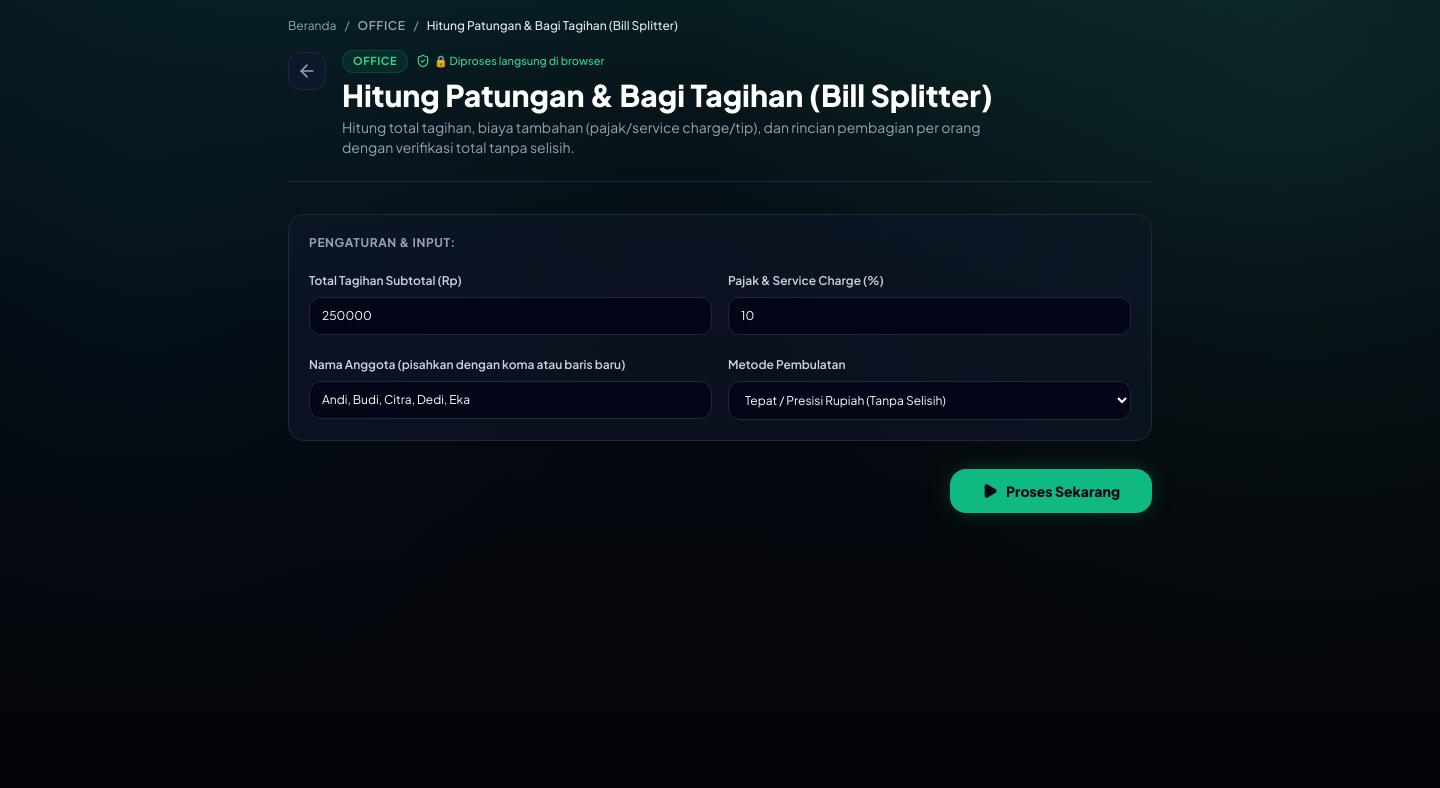
Test: End-to-End UI & Functional User Journeys (Task 6) › 3. Text & Form Tools UI Flow › Expense Splitter: calculates bill distribution from form options
Click the button "Proses Sekarang" at x=1051, y=490, box [950, 468, 1152, 512]
(page scrolled)
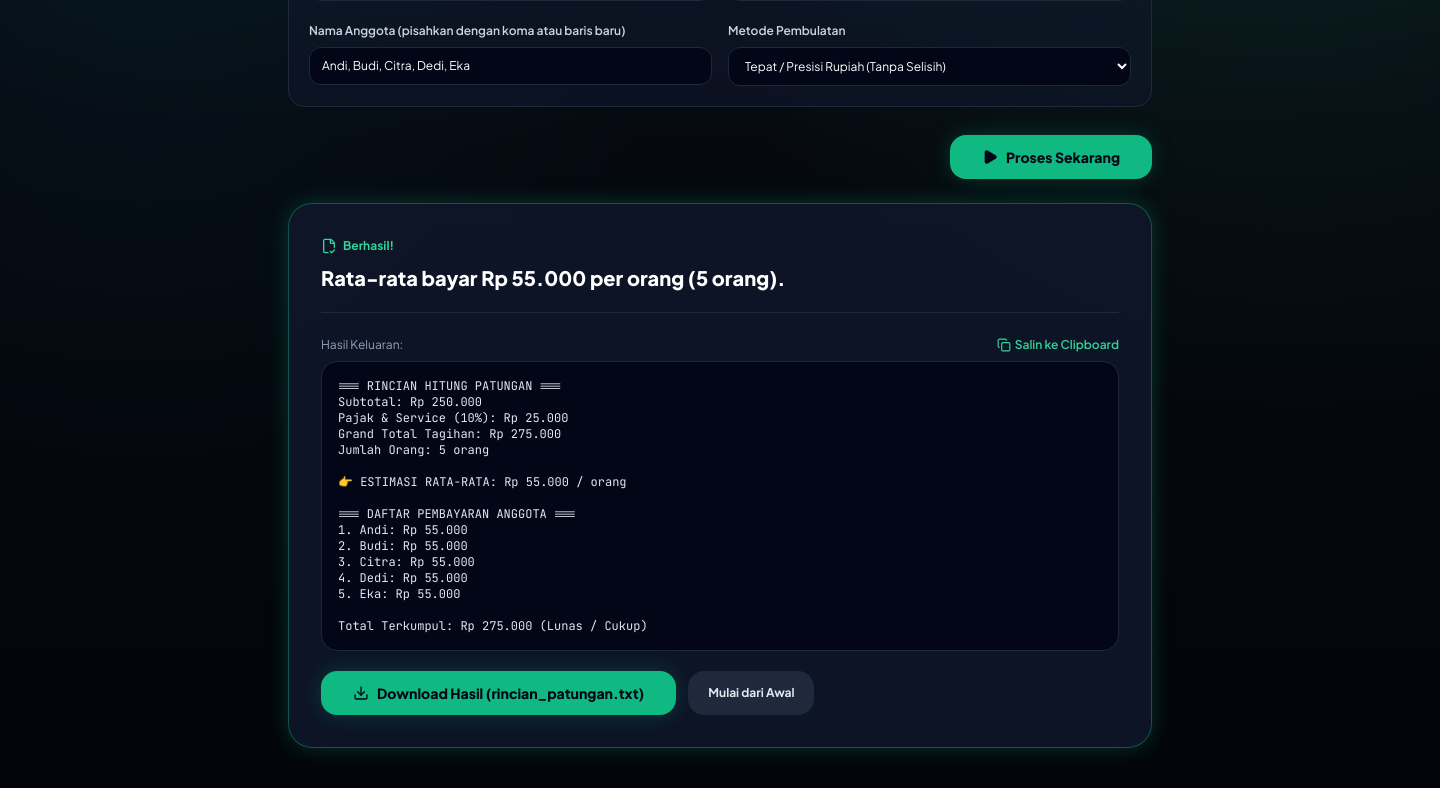
Expected: the text "Berhasil!" is shown, [321, 238, 394, 254]
Expected: the text "RINCIAN HITUNG PATUNGAN" is shown, [338, 378, 648, 634]
